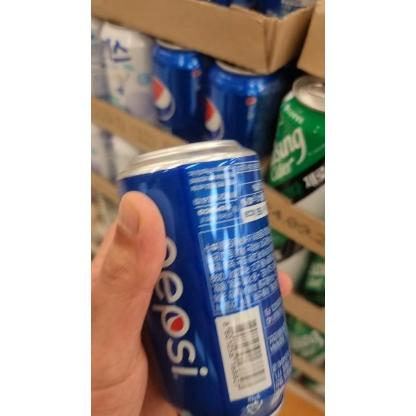Can: (117, 140, 290, 416)
